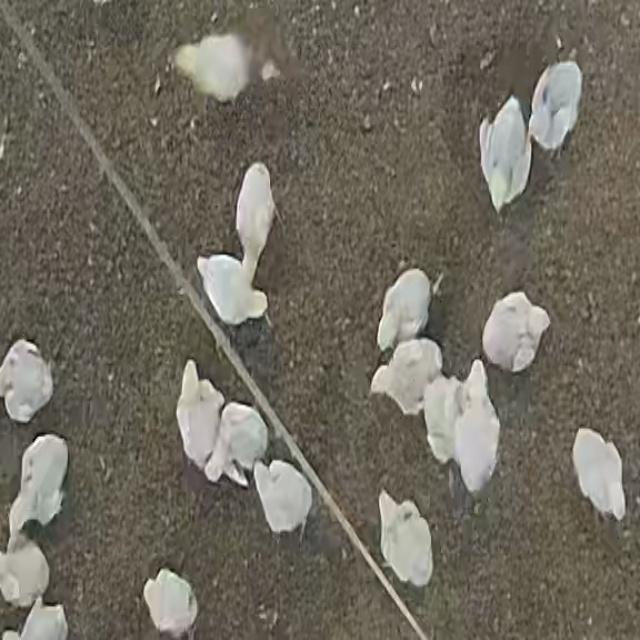chicken: (478, 92, 535, 214), (232, 155, 283, 283), (173, 352, 227, 472), (168, 30, 255, 104), (8, 434, 69, 537), (190, 251, 272, 327), (459, 358, 501, 500), (481, 292, 551, 374), (371, 340, 444, 416), (378, 490, 434, 589), (570, 427, 626, 525), (529, 60, 583, 157), (252, 458, 312, 539), (377, 266, 432, 352), (0, 339, 53, 425)
